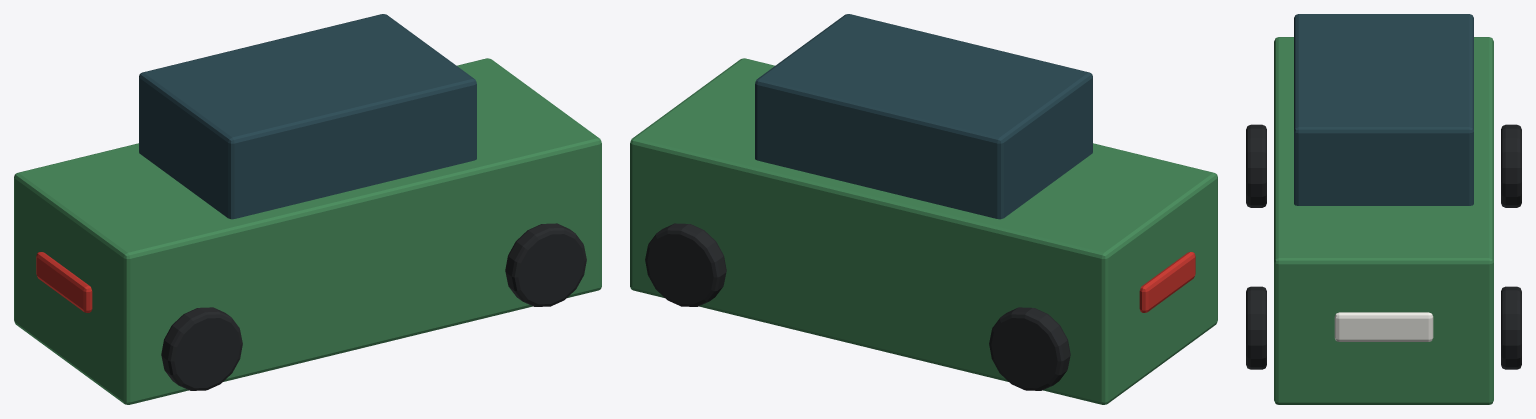
The model's file is Vehicle_015.glb.
3 views of the same model, side by side, from view 1: azimuth 30°, elevation 25°; view 2: azimuth 150°, elevation 25°; view 3: azimuth 270°, elevation 25° (orthographic). The views are drawn at different scales.
Parts seen in each view (by area): view 1: Vehicle_015; view 2: Vehicle_015; view 3: Vehicle_015.
Boxes of the visible parts, bbox=[...] form: Vehicle_015: bbox=[14, 14, 601, 404]; Vehicle_015: bbox=[630, 14, 1217, 404]; Vehicle_015: bbox=[1246, 14, 1521, 404].
Size of the model in its own units: 4.77 by 2.14 by 2.38.
